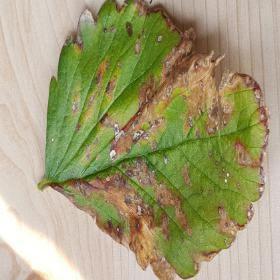Angular Leafspot: (44, 0, 270, 279)
